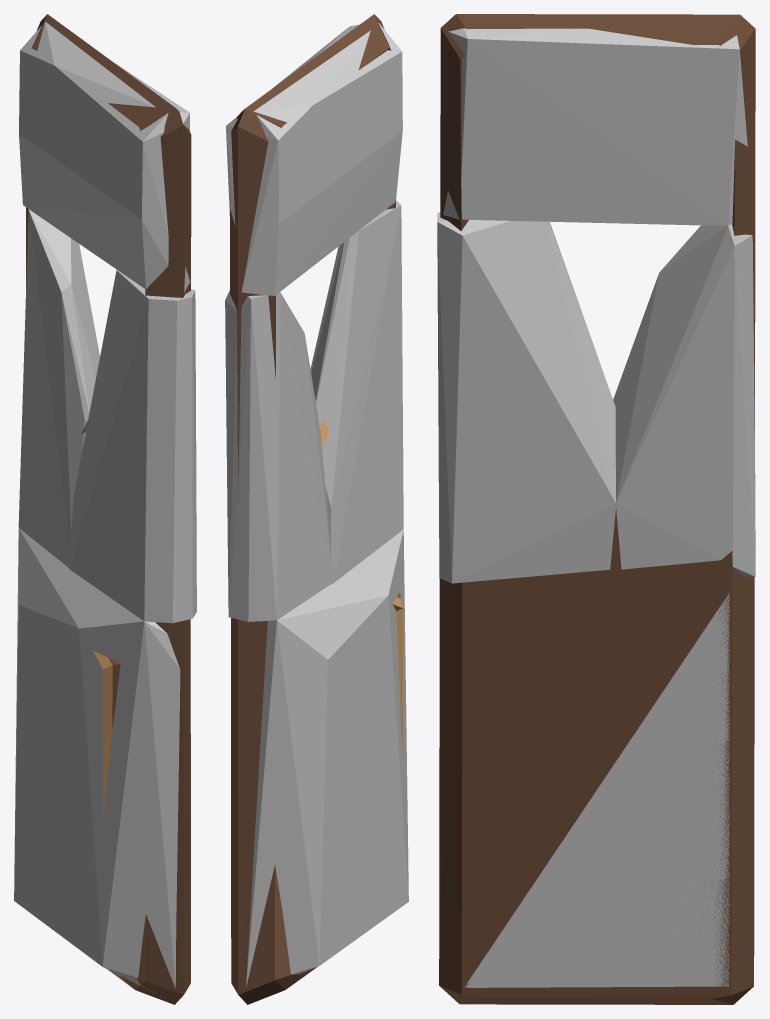
The model's file is SM_Prop_Cabinet_01_Door_r_03.fbx.
3 renders of one model, left to right at view 1: azimuth 30°, elevation 25°; view 2: azimuth 150°, elevation 25°; view 3: azimuth 270°, elevation 25°, orthographic. The views are drawn at different scales.
Visible parts, largest first — view 1: SM_Prop_Cabinet_01_Door_r_03_ConvexHulls, SM_Prop_Cabinet_01_Door_r_03; view 2: SM_Prop_Cabinet_01_Door_r_03_ConvexHulls, SM_Prop_Cabinet_01_Door_r_03; view 3: SM_Prop_Cabinet_01_Door_r_03_ConvexHulls, SM_Prop_Cabinet_01_Door_r_03.
Part boxes in pixels (box(x1,y1,x2,y2)): SM_Prop_Cabinet_01_Door_r_03_ConvexHulls: box(14, 22, 196, 996); SM_Prop_Cabinet_01_Door_r_03: box(26, 14, 191, 1004); SM_Prop_Cabinet_01_Door_r_03_ConvexHulls: box(225, 22, 408, 987); SM_Prop_Cabinet_01_Door_r_03: box(230, 14, 402, 1004); SM_Prop_Cabinet_01_Door_r_03_ConvexHulls: box(437, 28, 755, 987); SM_Prop_Cabinet_01_Door_r_03: box(439, 14, 755, 1004).
Bounding box in the file's own units: 12.56 × 40.1 × 138.
2 materials, 1 textured.
